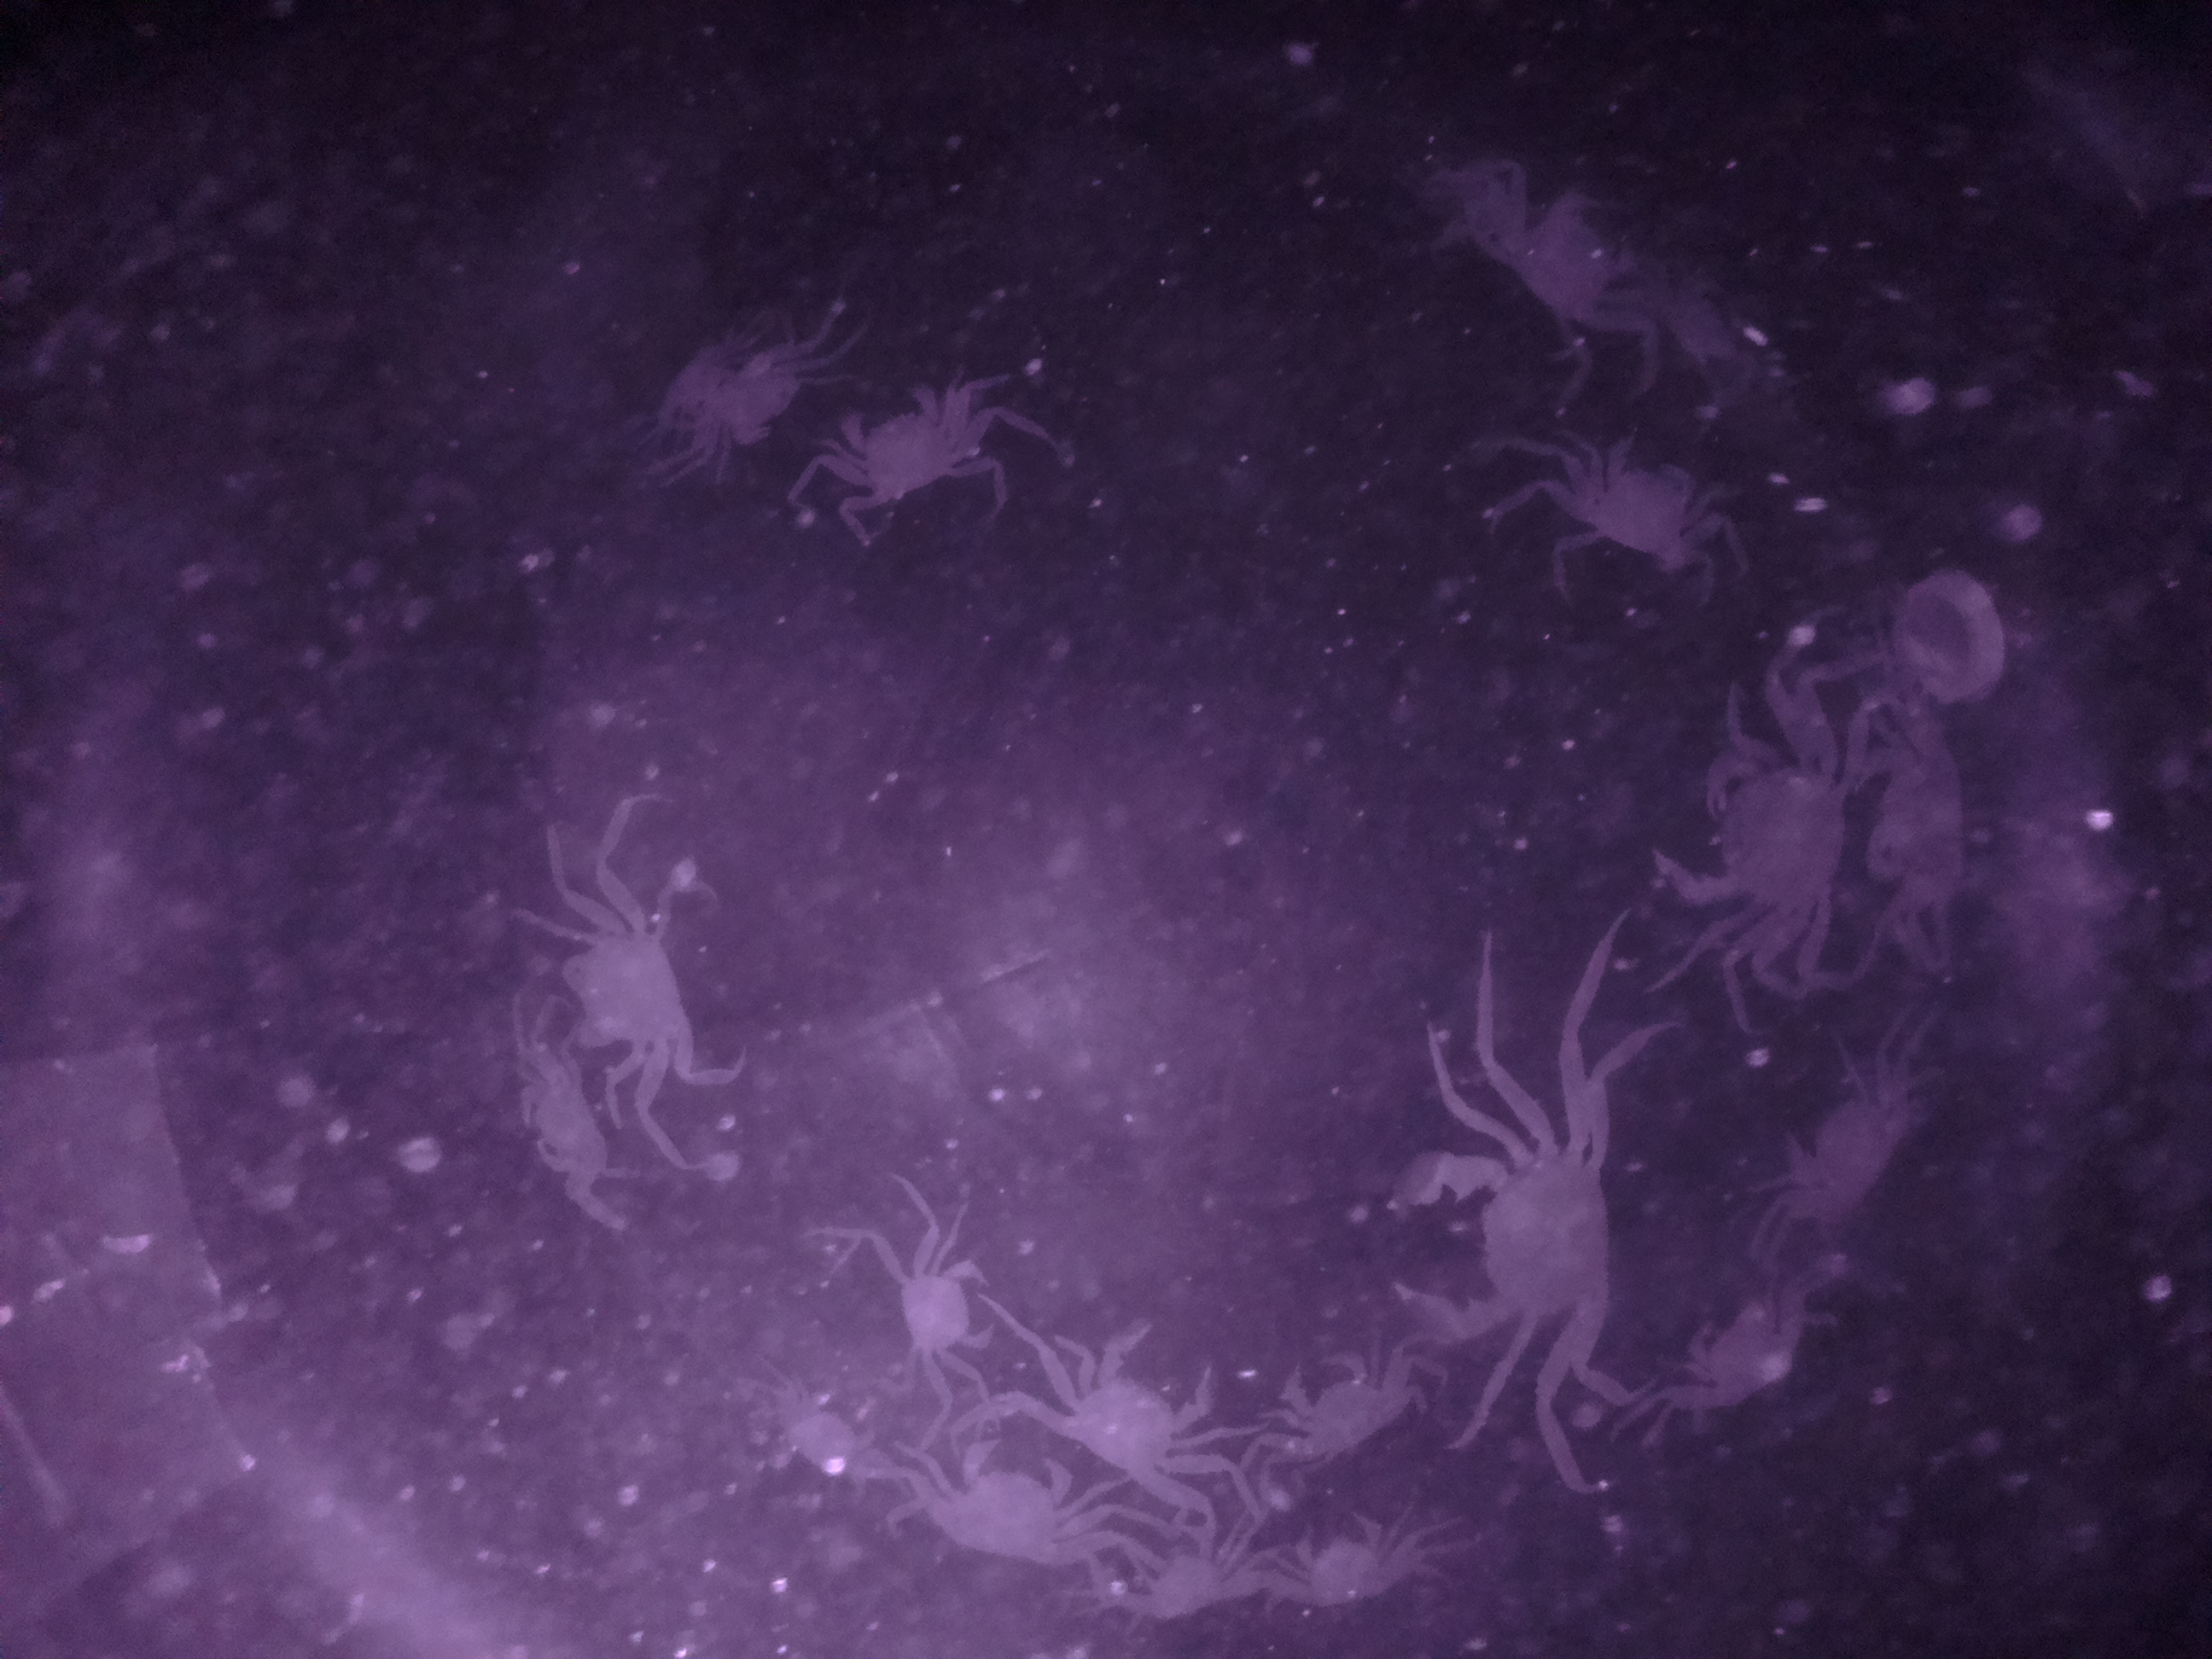Crab: (1374, 1112, 1637, 1351), (1641, 714, 1864, 943), (1470, 157, 1684, 366), (1756, 1049, 1939, 1263), (1043, 1307, 1228, 1507), (1536, 415, 1754, 582), (531, 896, 707, 1075), (1658, 1277, 1817, 1427), (822, 373, 979, 521), (914, 1446, 1082, 1579), (1270, 1344, 1420, 1485), (1266, 1499, 1425, 1626), (869, 1249, 991, 1373)
